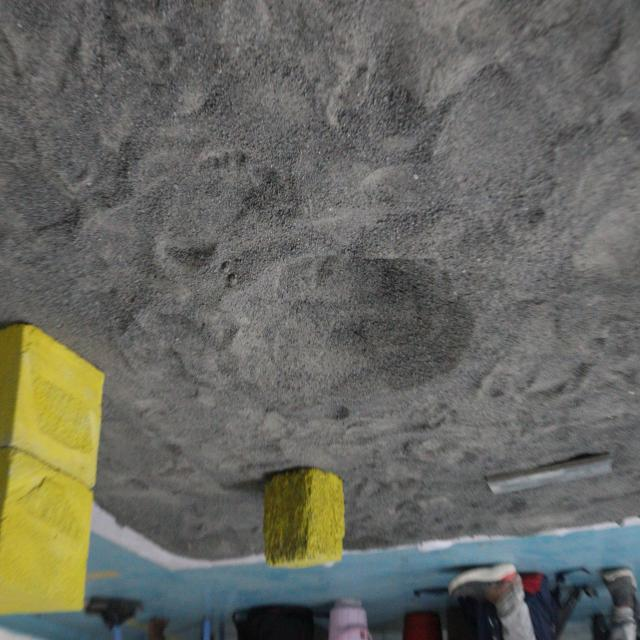box: (0, 318, 105, 621), (262, 470, 346, 578)
crater: (234, 242, 496, 418)
